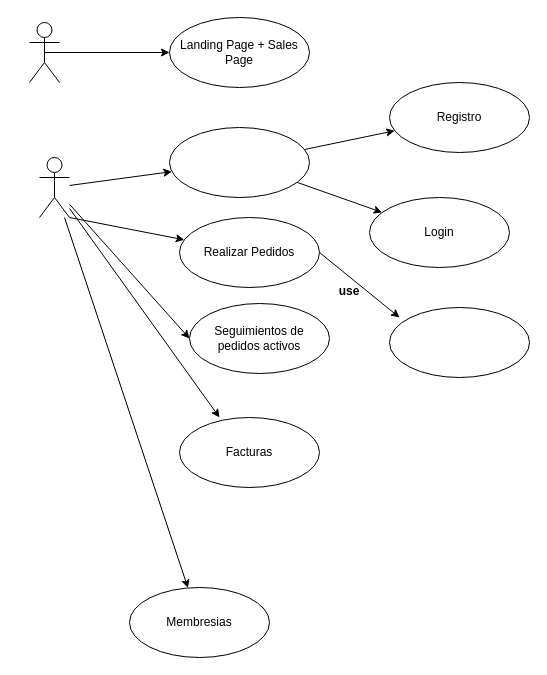
Image size: 547x675. Some labels were removed from this diagram. The box of each missing label's shape, as (x1, y1, x2, y2) in pixels:
Cotizador: (388, 306, 530, 378)
Customer: (38, 156, 70, 218)
Gestión de usuarios (keycloak): (168, 126, 310, 198)
Prospecto: (28, 22, 60, 82)
